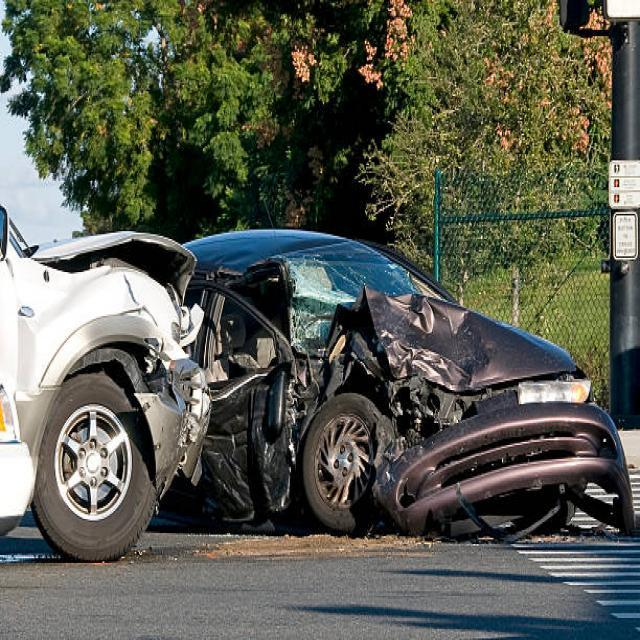accident: (2, 163, 619, 597)
